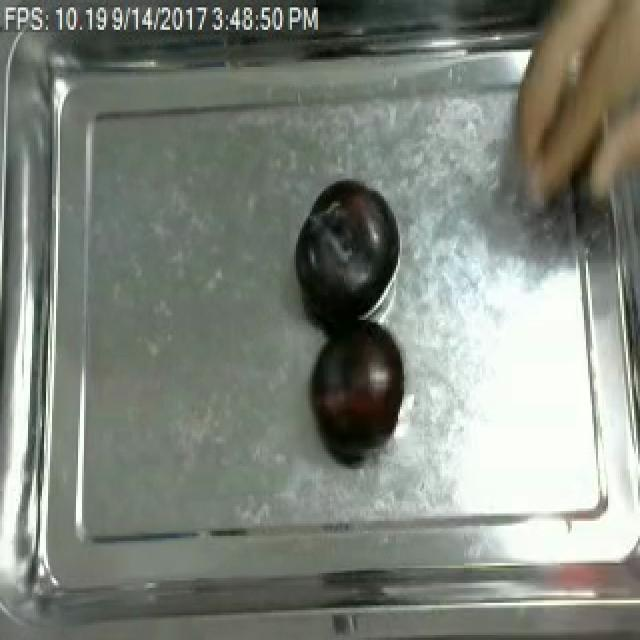Fruit: (288, 174, 402, 328), (304, 315, 410, 461)
